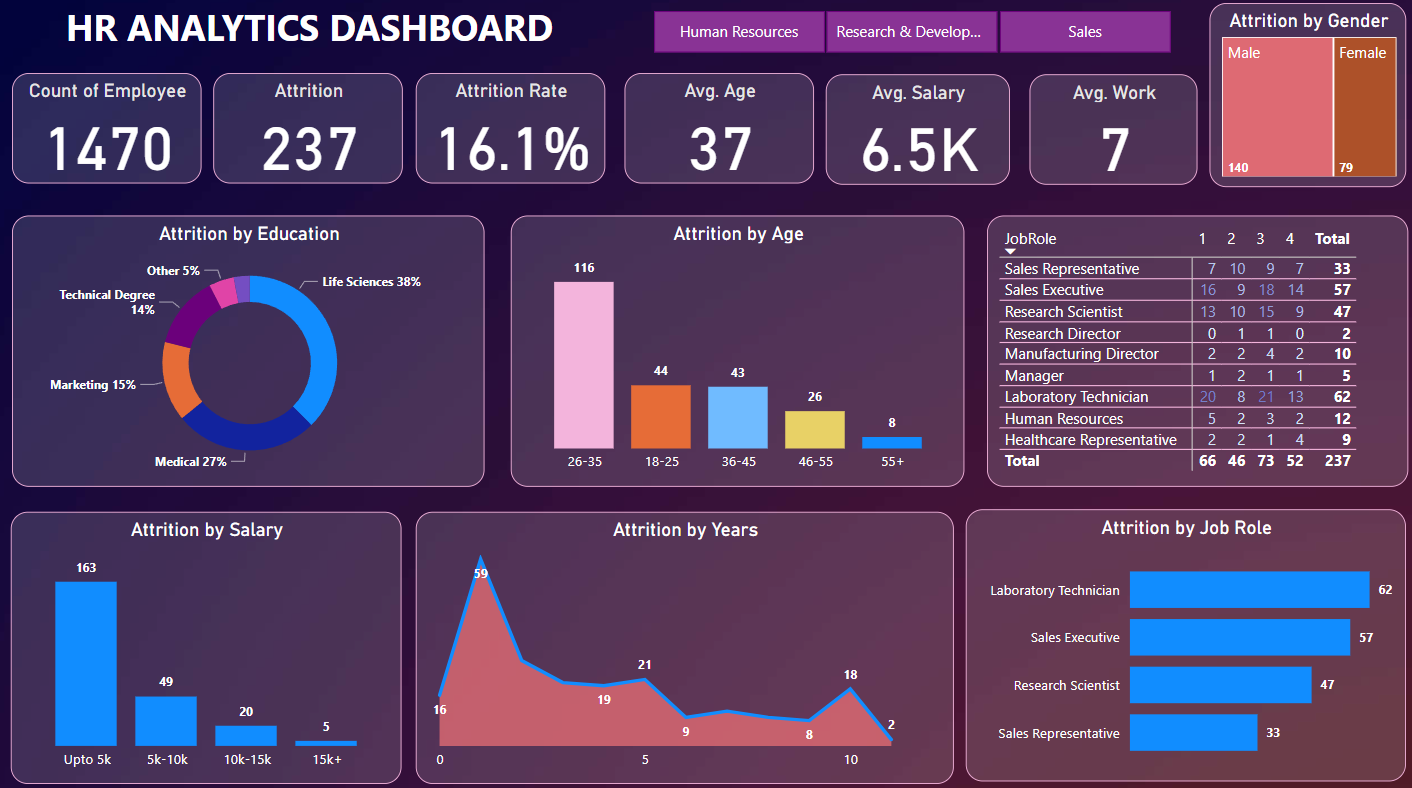

The dashboard page shown, as its layout file describes it:
{"tool":"powerbi","page":{"name":"Page 1","canvas":[1280,720],"ordinal":0},"visuals":[{"type":"card","title":"Count of Employee","fields":{"Values":["Count(HR_Analytics.EmpID)"]},"box":[22.8,71.7,168.8,98.8],"z":0},{"type":"card","title":"Attrition","fields":{"Values":["Sum(HR_Analytics.AttritionColumn)"]},"box":[201.2,71.7,168.8,98.8],"z":1000},{"type":"card","title":"Attrition Rate","fields":{"Values":["HR_Analytics.AttritionRate"]},"box":[382.3,71.7,168.8,98.8],"z":2000},{"type":"card","title":"Avg. Age","fields":{"Values":["Avg(HR_Analytics.Age)"]},"box":[567.5,71.7,168.8,98.8],"z":3000},{"type":"card","title":"Avg. Salary","fields":{"Values":["Avg(HR_Analytics.MonthlyIncome)"]},"box":[747.2,72.4,163.9,98.4],"z":4000},{"type":"card","title":"Avg. Work","fields":{"Values":["Avg(HR_Analytics.YearsAtCompany)"]},"box":[928.2,72.4,149.7,98.4],"z":5000},{"type":"donutChart","title":"Attrition by Education","fields":{"Category":["HR_Analytics.EducationField"],"Y":["Sum(HR_Analytics.AttritionColumn)"]},"box":[22.8,197.8,421,241.3],"z":6000},{"type":"clusteredColumnChart","title":"Attrition by Age","fields":{"Category":["HR_Analytics.AgeGroup"],"Y":["Sum(HR_Analytics.AttritionCount)"]},"box":[466.8,197.8,404.2,241.3],"z":7000},{"type":"pivotTable","fields":{"Rows":["HR_Analytics.JobRole"],"Columns":["HR_Analytics.JobSatisfaction"],"Values":["Sum(HR_Analytics.AttritionCount)"]},"box":[890.2,197.8,375.2,241.3],"z":8000},{"type":"clusteredColumnChart","title":"Attrition by Salary","fields":{"Category":["HR_Analytics.SalarySlab"],"Y":["Sum(HR_Analytics.AttritionCount)"]},"box":[21.7,461.5,347.8,242.3],"z":9000},{"type":"clusteredBarChart","title":"Attrition by Job Role","fields":{"Category":["HR_Analytics.JobRole"],"Y":["Sum(HR_Analytics.AttritionCount)"]},"box":[871.2,460.1,392,242.3],"z":10000},{"type":"areaChart","title":"Attrition by Years","fields":{"Category":["HR_Analytics.YearsAtCompany"],"Y":["Sum(HR_Analytics.AttritionCount)"]},"box":[382.3,461.5,478.9,242.3],"z":11000},{"type":"treemap","title":"Attrition by Gender","fields":{"Group":["HR_Analytics.Gender","HR_Analytics.YearsAtCompany"],"Values":["Sum(HR_Analytics.AttritionCount)"]},"box":[1089,8.6,175.3,163.9],"z":12000},{"type":"slicer","fields":{"Values":["HR_Analytics.Department"]},"box":[567.3,8.6,510.3,51.3],"z":13000},{"type":"textbox","box":[0,2.9,574.4,62.7],"z":14000}]}

Visuals, with their boxes in screenshot pixels (x1, y1, x2, y2), scaled from the page's 1280x720 canvas onto the 1412x788 screenshot:
"Count of Employee" card: [25,78,211,187]
"Attrition" card: [222,78,408,187]
"Attrition Rate" card: [422,78,608,187]
"Avg. Age" card: [626,78,812,187]
"Avg. Salary" card: [824,79,1005,187]
"Avg. Work" card: [1024,79,1189,187]
"Attrition by Education" donutChart: [25,216,490,481]
"Attrition by Age" clusteredColumnChart: [515,216,961,481]
pivotTable - HR_Analytics.JobRole x HR_Analytics.JobSatisfaction: [982,216,1396,481]
"Attrition by Salary" clusteredColumnChart: [24,505,408,770]
"Attrition by Job Role" clusteredBarChart: [961,504,1393,769]
"Attrition by Years" areaChart: [422,505,950,770]
"Attrition by Gender" treemap: [1201,9,1395,189]
slicer - HR_Analytics.Department: [626,9,1189,66]
textbox: [0,3,634,72]
